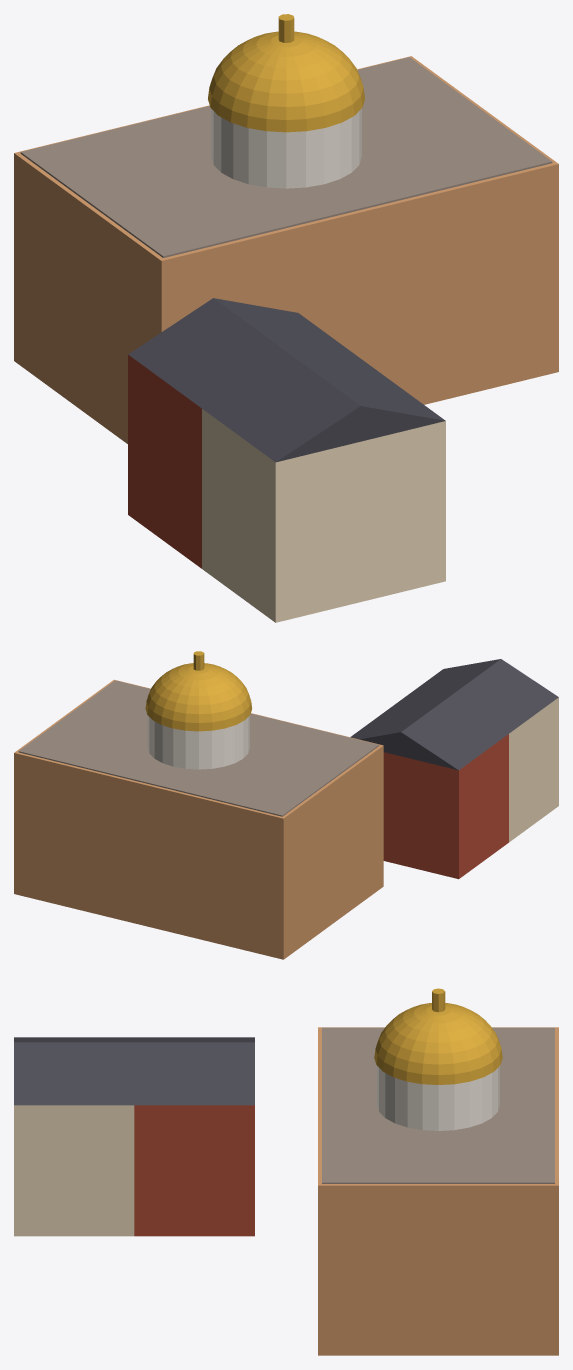
File: chunk_2_2.glb
The picture shows the model from 3 angles, top to bottom: view 1: azimuth 30°, elevation 25°; view 2: azimuth 150°, elevation 25°; view 3: azimuth 270°, elevation 25°; orthographic projection. The views are drawn at different scales.
Visible parts, largest first — view 1: chunk_2_2__building, chunk_2_2__statehouse; view 2: chunk_2_2__building, chunk_2_2__statehouse; view 3: chunk_2_2__building, chunk_2_2__statehouse.
Part boxes in pixels (x1=…): chunk_2_2__building: x1=14, y1=56, x2=558, y2=622; chunk_2_2__statehouse: x1=208, y1=14, x2=364, y2=188; chunk_2_2__building: x1=14, y1=659, x2=558, y2=959; chunk_2_2__statehouse: x1=145, y1=651, x2=252, y2=769; chunk_2_2__building: x1=14, y1=1027, x2=558, y2=1355; chunk_2_2__statehouse: x1=374, y1=988, x2=502, y2=1130.
Size of the model in its own units: 33.08 by 23.5 by 40.72.
